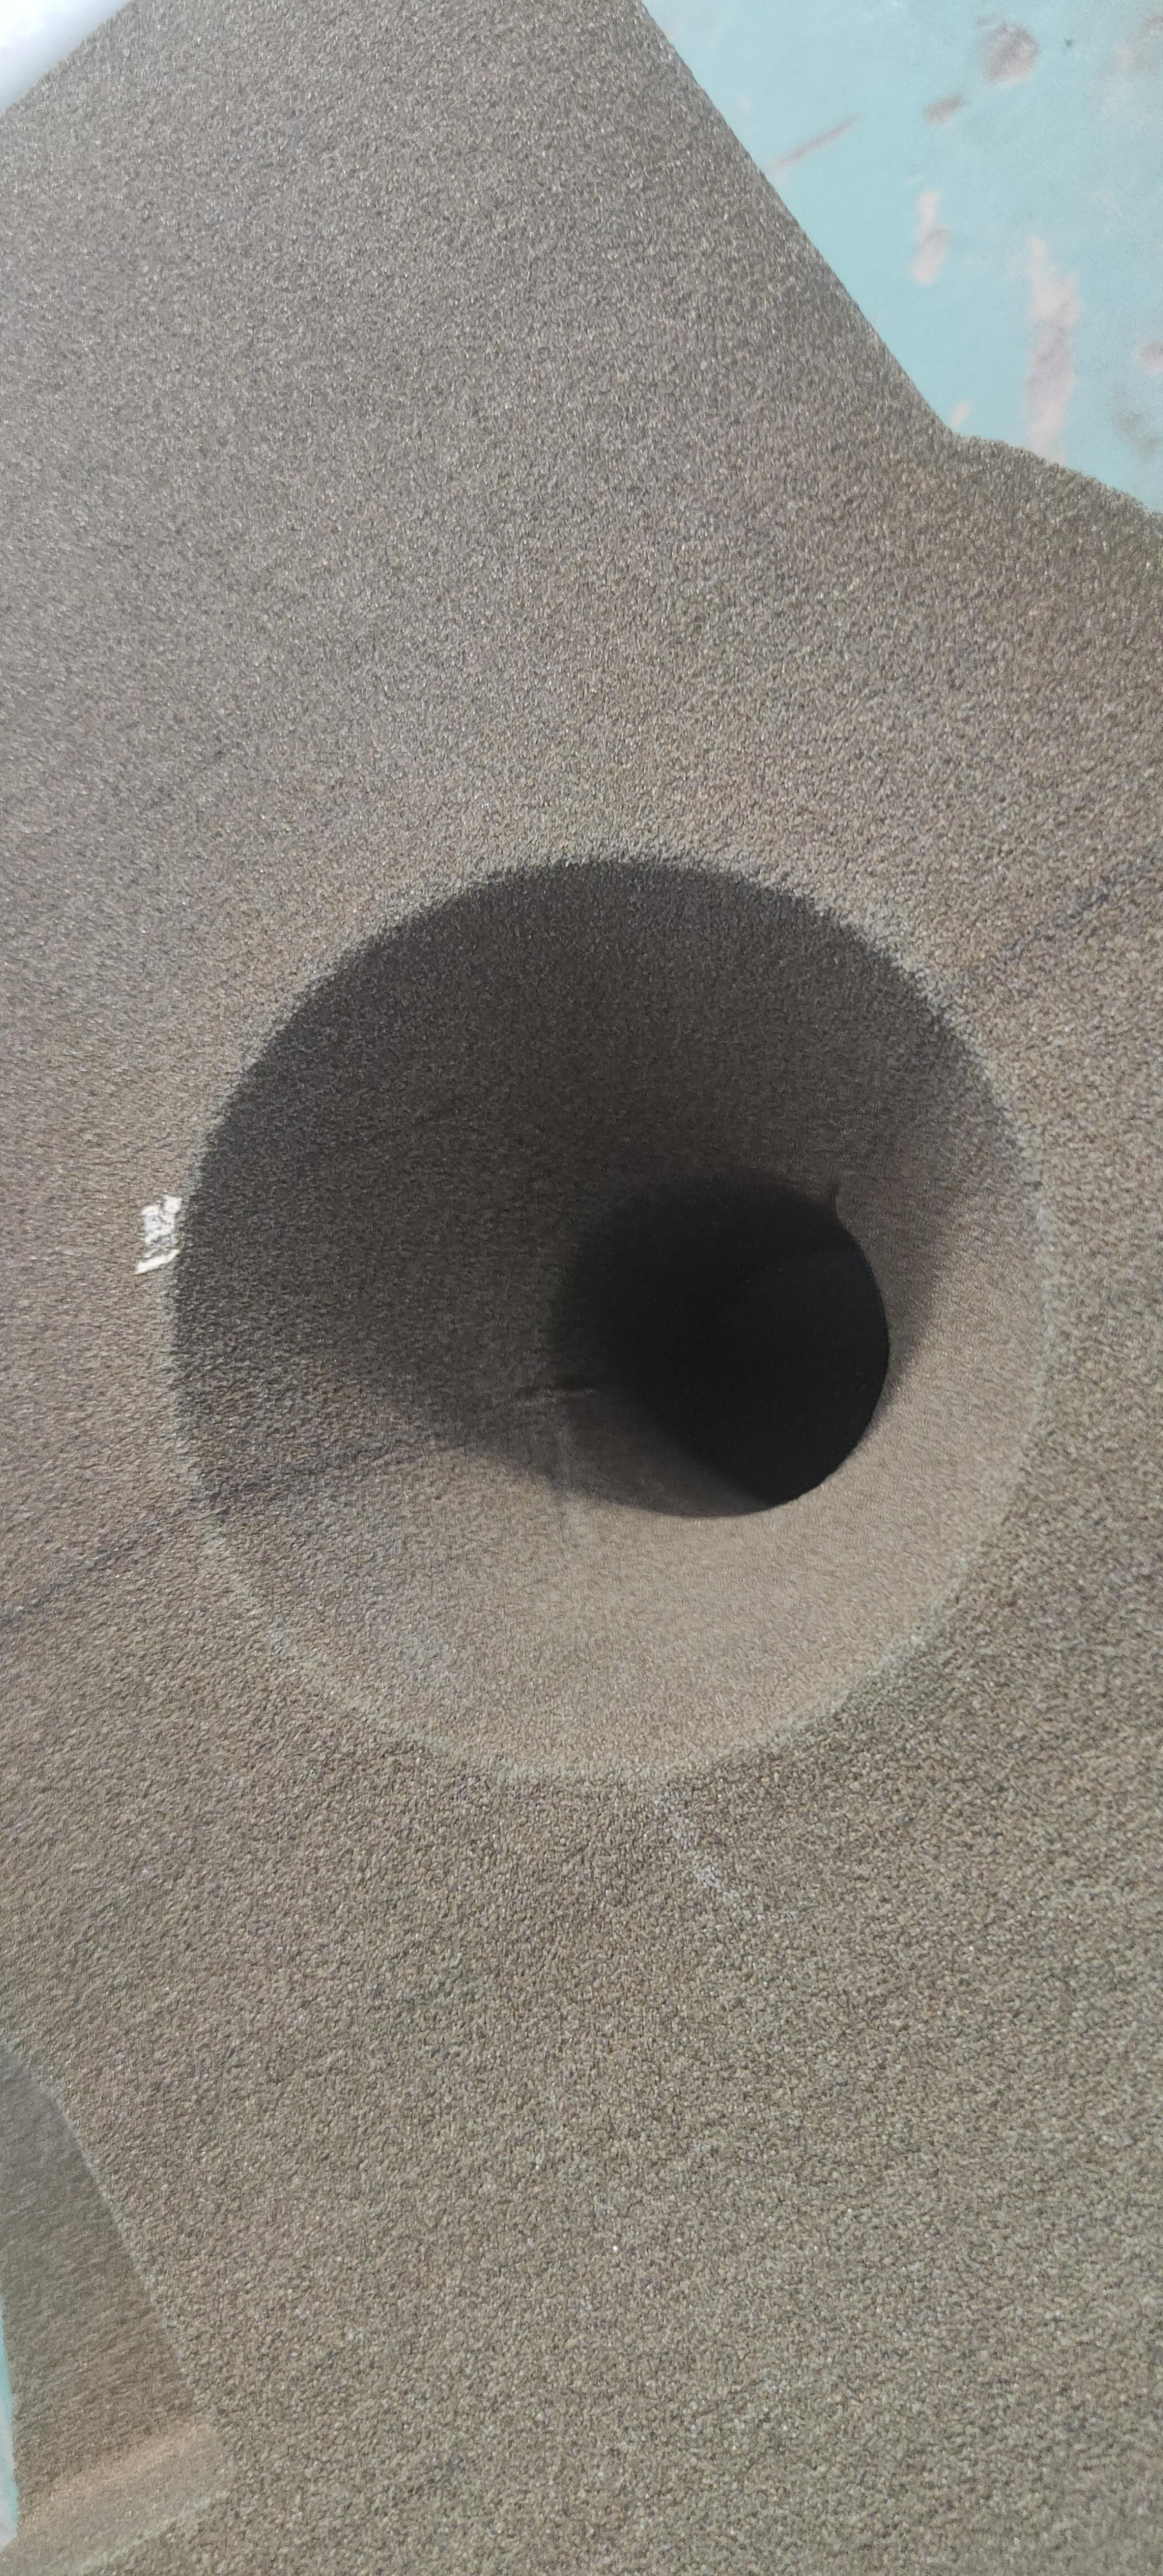pouring hole: (163, 856, 1051, 1786)
